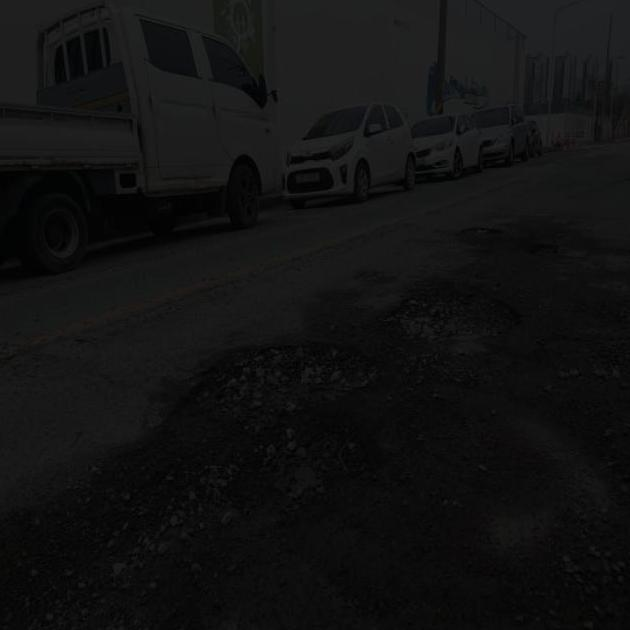pothole: (193, 296, 366, 425), (388, 254, 528, 370)
